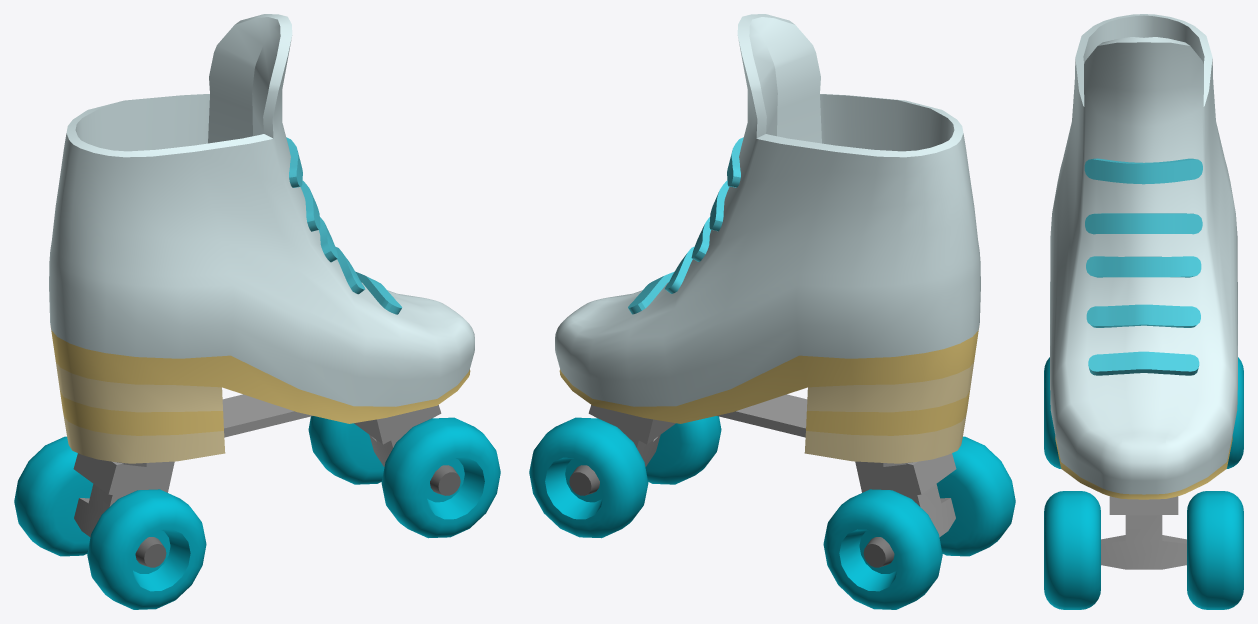
File: roller_skate.glb
The picture shows the model from 3 angles, left to right: view 1: azimuth 30°, elevation 25°; view 2: azimuth 150°, elevation 25°; view 3: azimuth 270°, elevation 25°; orthographic projection. The views are drawn at different scales.
Parts seen in each view (by area): view 1: Circle.2394; view 2: Circle.2394; view 3: Circle.2394.
Boxes of the visible parts, box(x1,y1,x2,y2) form: Circle.2394: box(14, 14, 500, 609); Circle.2394: box(529, 14, 1015, 609); Circle.2394: box(1044, 14, 1243, 609).
Size of the model in its own units: 1.92 by 2.33 by 0.8333.
Materials: 1 (1 with a texture image).
